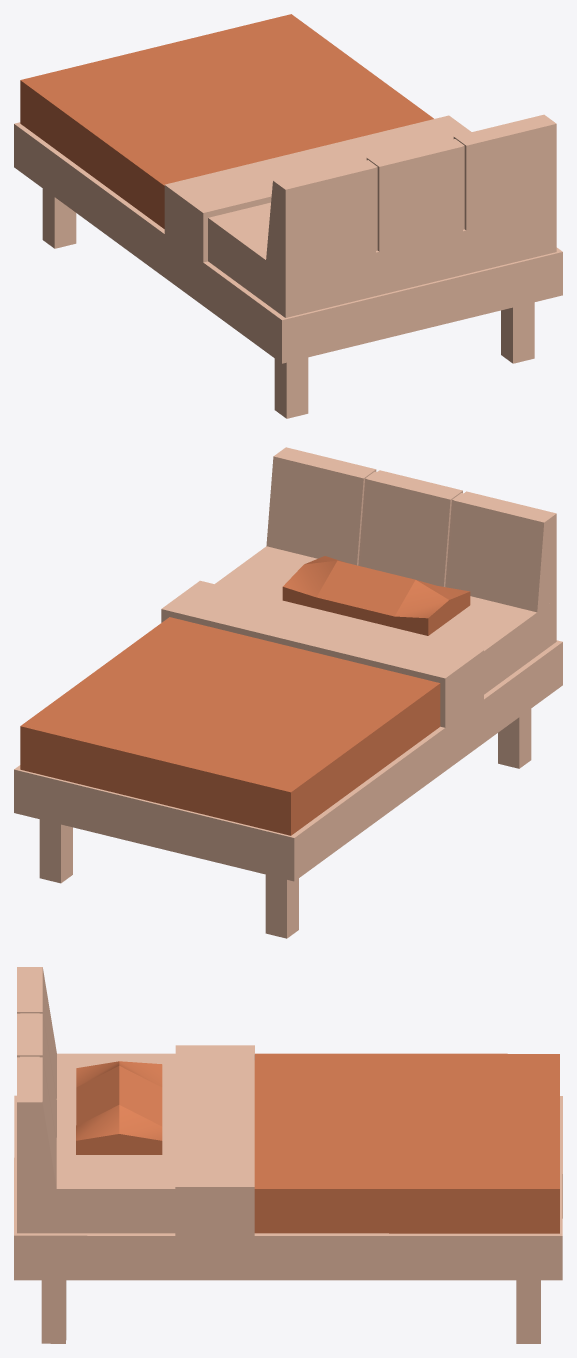
The model's file is Bed.glb.
3 renders of one model, top to bottom at view 1: azimuth 30°, elevation 25°; view 2: azimuth 150°, elevation 25°; view 3: azimuth 270°, elevation 25°, orthographic. The views are drawn at different scales.
Visible parts, largest first — view 1: Cube.018; view 2: Cube.018; view 3: Cube.018.
Boxes of the visible parts, x1,y1,x2,y2 form: Cube.018: [14, 14, 562, 418]; Cube.018: [14, 447, 562, 938]; Cube.018: [14, 967, 562, 1343].
Size of the model in its own units: 1.04 by 0.8398 by 1.69.
